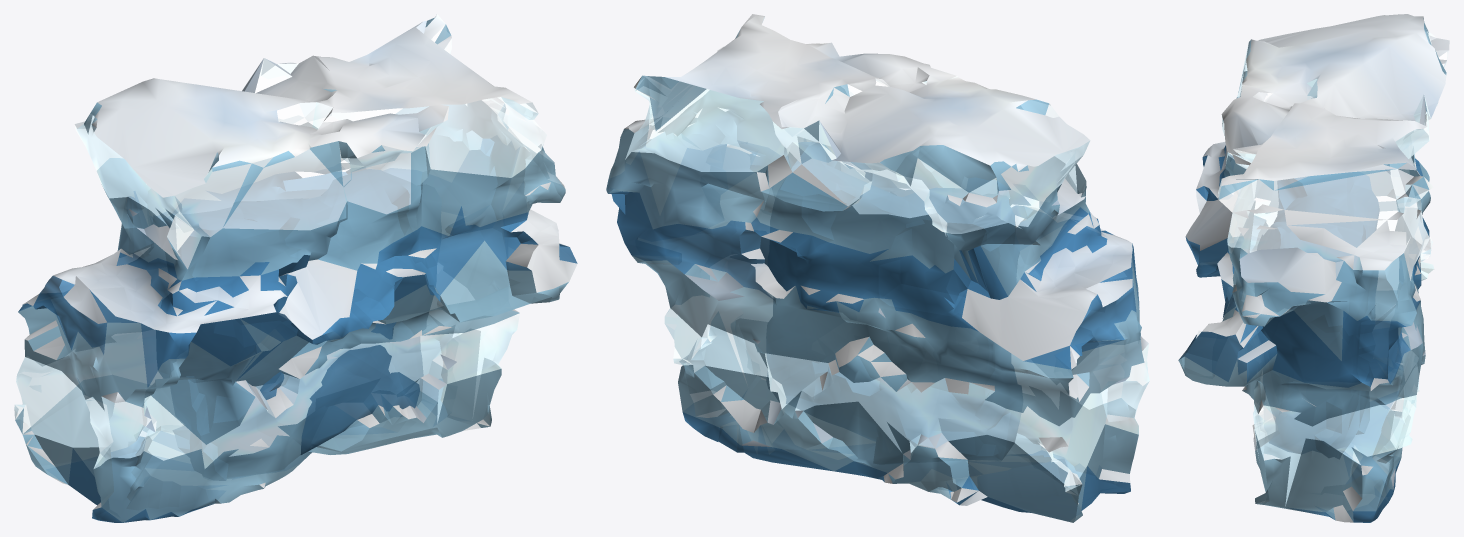
Rendered from frost_ice_cliff_a.glb.
3 renders of one model, left to right at view 1: azimuth 30°, elevation 25°; view 2: azimuth 150°, elevation 25°; view 3: azimuth 270°, elevation 25°, orthographic. The views are drawn at different scales.
Visible parts, largest first — view 1: frost_ice_cliff_a; view 2: frost_ice_cliff_a; view 3: frost_ice_cliff_a.
Part boxes in pixels (box(x1,y1,x2,y2)): frost_ice_cliff_a: box(14, 14, 577, 522); frost_ice_cliff_a: box(606, 14, 1149, 522); frost_ice_cliff_a: box(1178, 14, 1449, 522).
Size of the model in its own units: 14.66 by 11.04 by 7.3.
